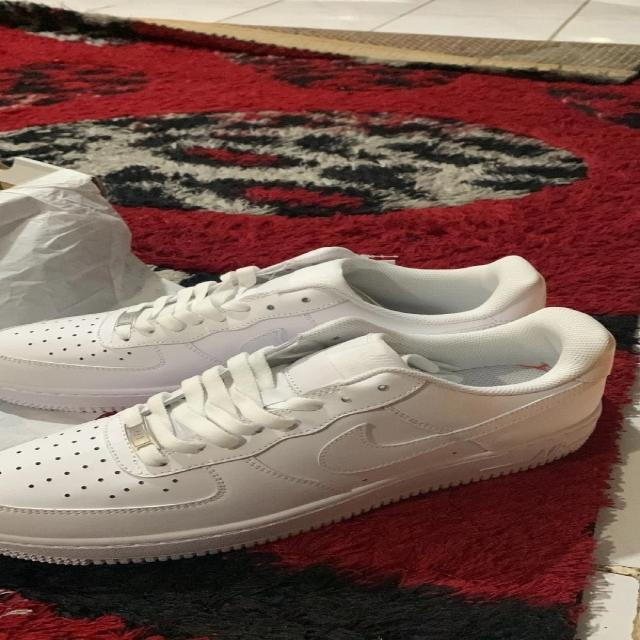nike original air force: (0, 307, 613, 564), (0, 244, 549, 414)
